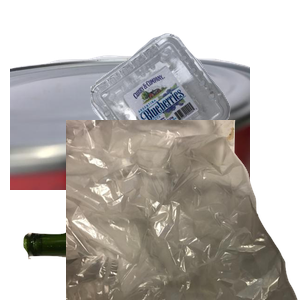glass: (21, 201, 261, 300)
metal: (10, 52, 250, 232)
plastic: (88, 31, 300, 198)
trash: (66, 120, 300, 300)
